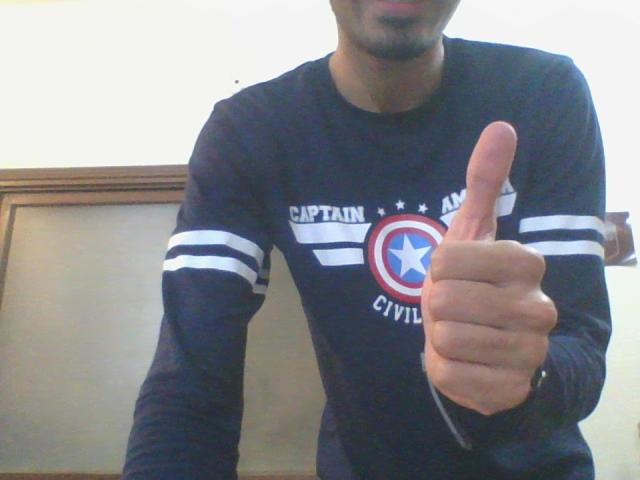thumbs-up: (418, 121, 562, 411)
